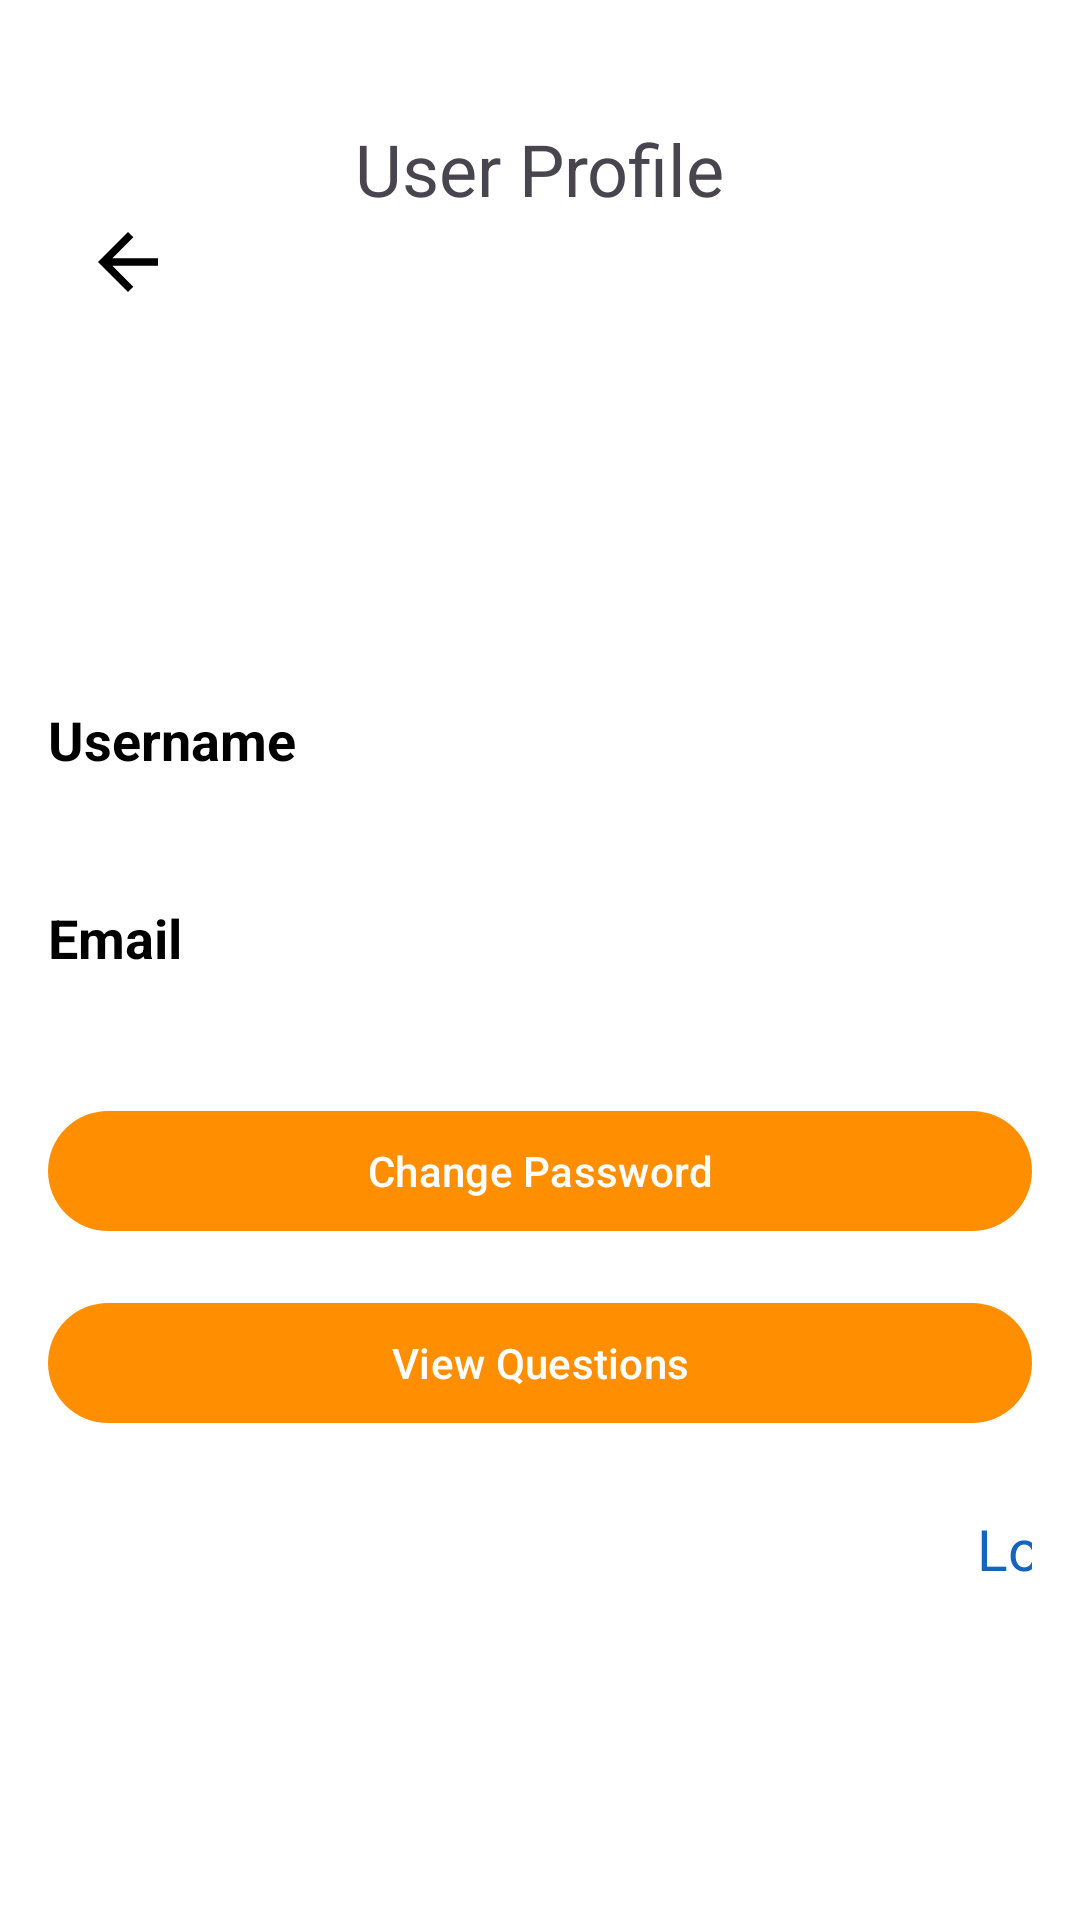

Icon click points for this 1080w x 1920h phone screenshot, format point (x, y):
arrow back: point (128, 262)
